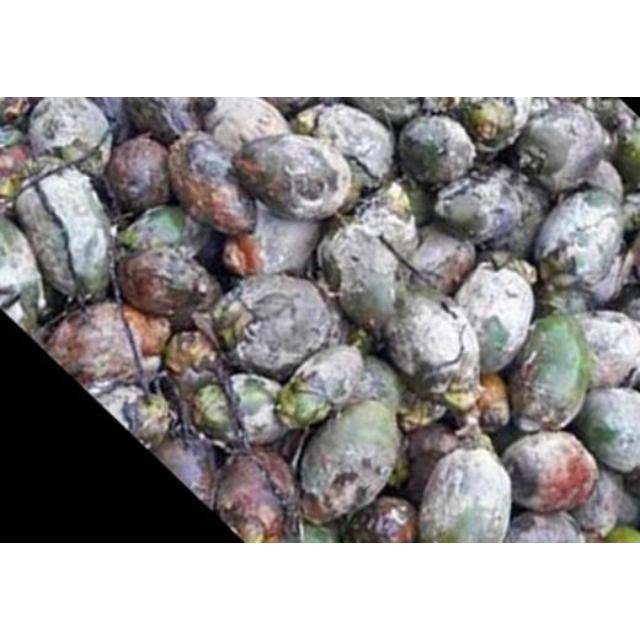damaged: (215, 271, 342, 381), (294, 398, 402, 526), (314, 214, 418, 334), (381, 292, 484, 406), (232, 132, 354, 222), (165, 130, 265, 238), (514, 102, 610, 198), (452, 264, 536, 372), (114, 245, 224, 327), (299, 103, 397, 195), (429, 168, 529, 246), (26, 98, 114, 172), (397, 114, 478, 188), (346, 188, 424, 262), (104, 135, 174, 215), (198, 98, 294, 154), (223, 374, 293, 446), (117, 204, 205, 260), (407, 228, 478, 294), (120, 98, 204, 146), (346, 354, 406, 420), (345, 98, 427, 128)
